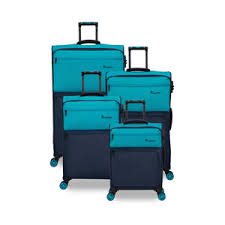suitcase: (49, 19, 126, 168), (106, 46, 175, 181), (58, 70, 122, 190), (104, 98, 167, 201)
